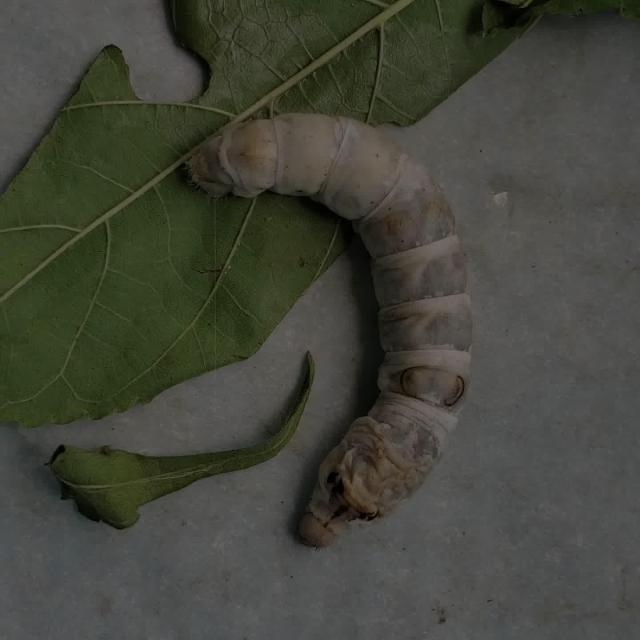Grasserie: (176, 103, 484, 549)
